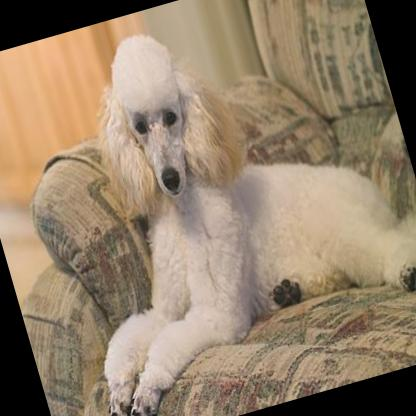miniature_poodle: (6, 0, 416, 416)
